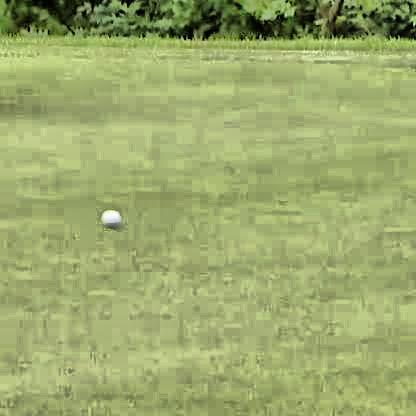golfball: (98, 206, 120, 228)
